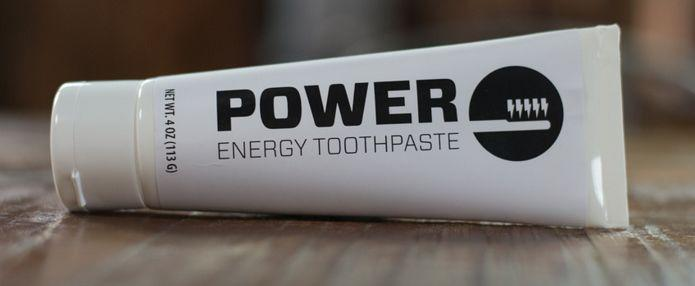toothpaste: (37, 31, 641, 236)
